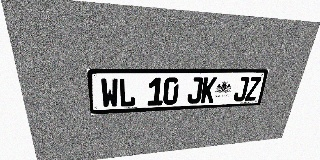0: (163, 77, 179, 105)
1: (147, 77, 164, 106)
J: (187, 77, 203, 104), (233, 77, 250, 102)
K: (200, 77, 217, 103)
L: (119, 78, 135, 107)
W: (100, 78, 119, 108)
Z: (245, 76, 262, 101)
